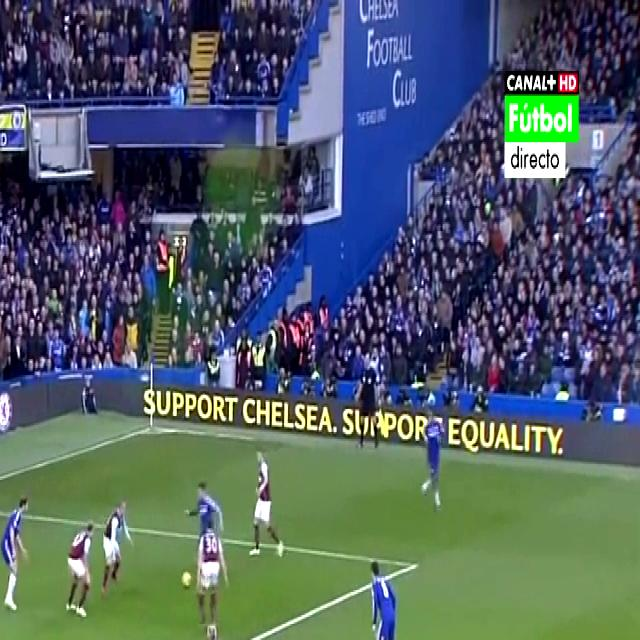ball: (176, 563, 196, 593)
referee: (348, 348, 389, 440), (195, 617, 243, 640)
soccer-player: (0, 486, 37, 628), (248, 439, 288, 557), (64, 502, 96, 624), (417, 399, 451, 508), (363, 553, 405, 640), (100, 496, 137, 594)
